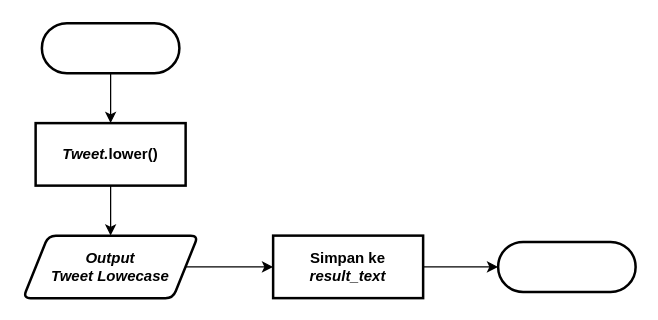
The diagram is 658 pixels wide and 320 high, and some of its shapes have lost their labels. The centre of each missing label's shape, as x and y in pixels:
"END" belongs at (x=566, y=266).
"START" belongs at (x=110, y=47).
